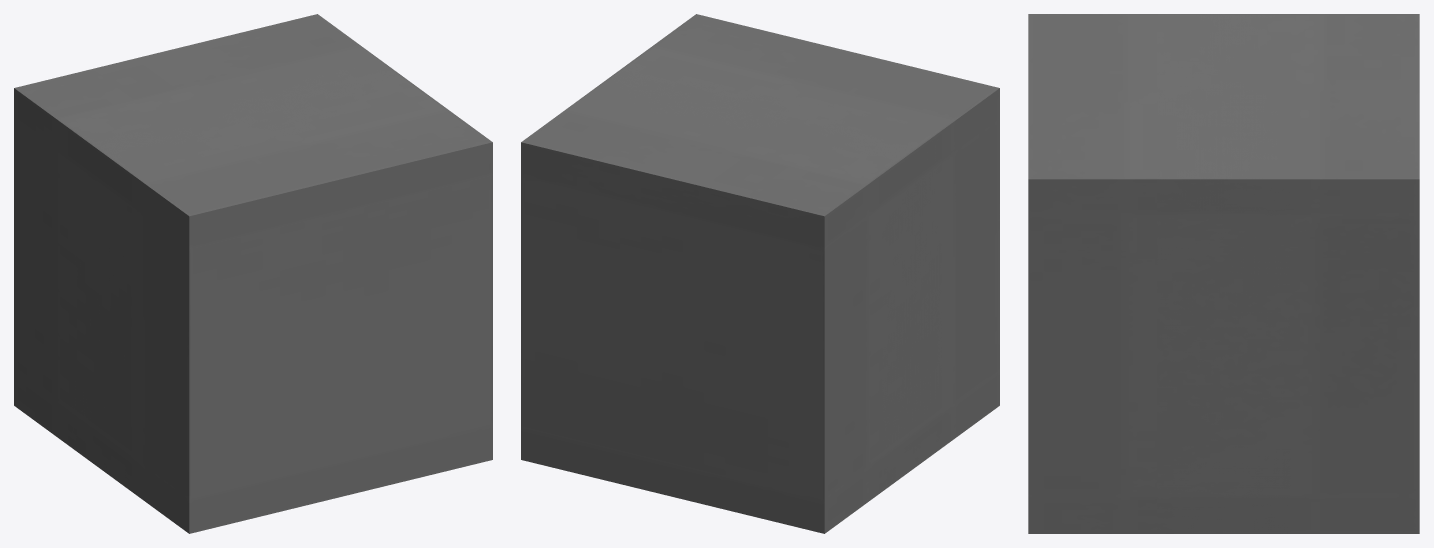
Rendered from ScalableMesh_Ground__15.fbx.
3 views of the same model, side by side, from view 1: azimuth 30°, elevation 25°; view 2: azimuth 150°, elevation 25°; view 3: azimuth 270°, elevation 25° (orthographic). The views are drawn at different scales.
Visible parts, largest first — view 1: MAT_ScalableMesh_02; view 2: MAT_ScalableMesh_02; view 3: MAT_ScalableMesh_02.
Part boxes in pixels (x1,y1,x2,y2): MAT_ScalableMesh_02: [14, 14, 492, 533]; MAT_ScalableMesh_02: [521, 14, 999, 533]; MAT_ScalableMesh_02: [1028, 14, 1419, 533].
Size of the model in its own units: 1 by 1 by 1.
Materials: 1 (1 with a texture image).
